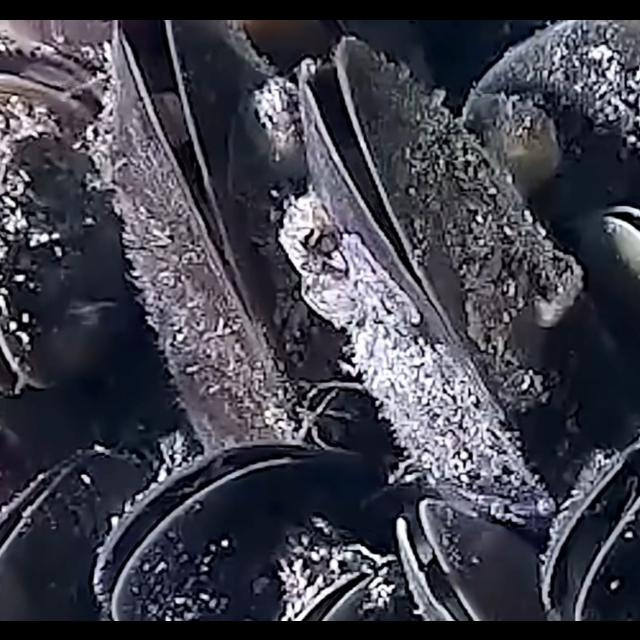Oyster-Closed: (456, 19, 640, 290)
Oyster-Open: (278, 34, 602, 524), (91, 19, 355, 455), (89, 438, 364, 620), (0, 137, 110, 397), (0, 444, 154, 620), (388, 496, 544, 620), (536, 438, 640, 620), (0, 36, 106, 162), (288, 562, 376, 620), (588, 200, 640, 276)
